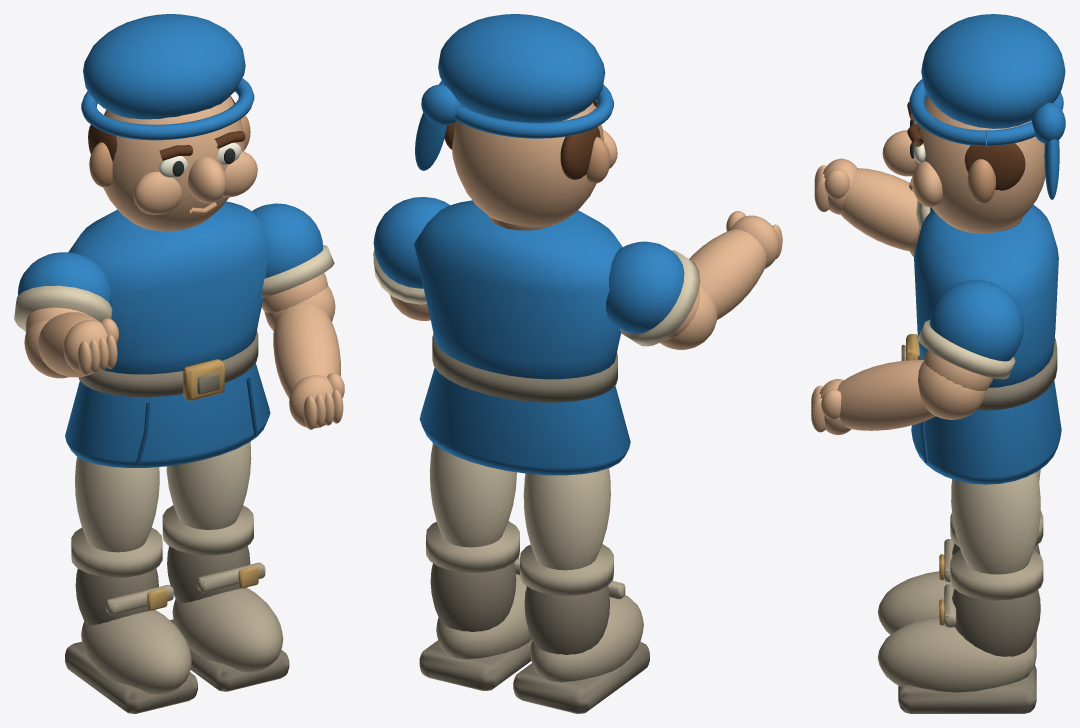
The model's file is plukker_plukken.glb.
3 views of the same model, side by side, from view 1: azimuth 30°, elevation 25°; view 2: azimuth 150°, elevation 25°; view 3: azimuth 270°, elevation 25° (orthographic). The views are drawn at different scales.
Visible parts, largest first — view 1: Tunic_torso.008, TEAM_Wool_work_cap.003, Tunic_skirt.008, Head.008, Boot_toe.016, Boot_toe.017, Trouser_leg.016, Trouser_leg.017, Left_Forearm.008, Left_Sleeve.008, TEAM_Rolled_cap_rim.003, Belt.008 (+24 smaller); view 2: Tunic_torso.008, Tunic_skirt.008, TEAM_Wool_work_cap.003, Head.008, Trouser_leg.016, Trouser_leg.017, Right_Sleeve.008, Boot_shaft.017, Boot_shaft.016, Belt.008, Boot_toe.016, Right_Forearm.008 (+15 smaller); view 3: Tunic_torso.008, TEAM_Wool_work_cap.003, Tunic_skirt.008, Boot_toe.017, Trouser_leg.017, Head.008, Left_Sleeve.008, Left_Forearm.008, Right_Forearm.008, Boot_shaft.017, Boot_sole.017, Boot_cuff.017 (+17 smaller).
Part boxes in pixels (<box>): Tunic_torso.008: <box>68,201,270,374</box>; TEAM_Wool_work_cap.003: <box>83,14,245,119</box>; Tunic_skirt.008: <box>65,363,270,467</box>; Head.008: <box>103,96,244,231</box>; Boot_toe.016: <box>81,610,191,694</box>; Boot_toe.017: <box>172,588,283,672</box>; Trouser_leg.016: <box>75,456,159,552</box>; Trouser_leg.017: <box>166,441,251,529</box>; Left_Forearm.008: <box>273,304,340,398</box>; Left_Sleeve.008: <box>252,203,322,277</box>; TEAM_Rolled_cap_rim.003: <box>81,78,254,140</box>; Belt.008: <box>78,331,258,397</box>; Tunic_torso.008: <box>414,200,622,379</box>; Tunic_skirt.008: <box>419,367,630,475</box>; TEAM_Wool_work_cap.003: <box>438,14,605,122</box>; Head.008: <box>452,103,603,227</box>; Trouser_leg.016: <box>523,468,610,570</box>; Trouser_leg.017: <box>429,443,516,547</box>; Right_Sleeve.008: <box>606,241,684,333</box>; Boot_shaft.017: <box>430,563,516,631</box>; Boot_shaft.016: <box>524,586,609,654</box>; Belt.008: <box>432,334,617,402</box>; Boot_toe.016: <box>530,595,643,682</box>; Right_Forearm.008: <box>689,229,766,319</box>; Tunic_torso.008: <box>914,204,1058,387</box>; TEAM_Wool_work_cap.003: <box>921,14,1065,128</box>; Tunic_skirt.008: <box>911,381,1061,484</box>; Boot_toe.017: <box>877,616,1036,692</box>; Trouser_leg.017: <box>951,472,1040,574</box>; Head.008: <box>914,95,1045,233</box>; Left_Sleeve.008: <box>929,280,1023,361</box>; Left_Forearm.008: <box>837,360,935,430</box>; Right_Forearm.008: <box>840,168,918,251</box>; Boot_shaft.017: <box>952,589,1040,656</box>; Boot_sole.017: <box>898,665,1036,713</box>; Boot_cuff.017: <box>950,550,1043,600</box>.
Size of the model in its own units: 1.1 by 2.08 by 0.738.
